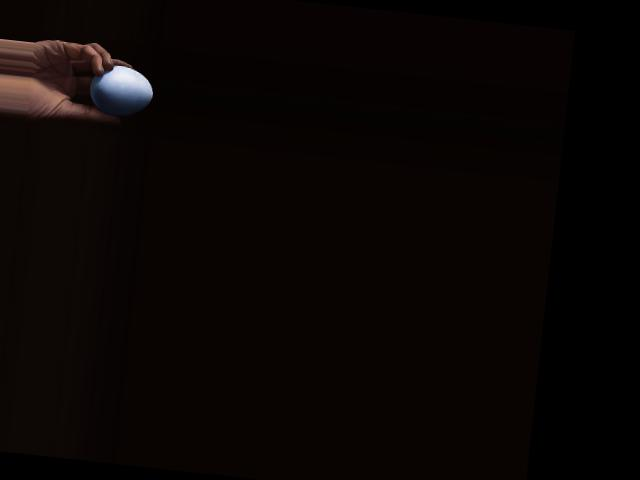egg: (88, 61, 156, 118)
